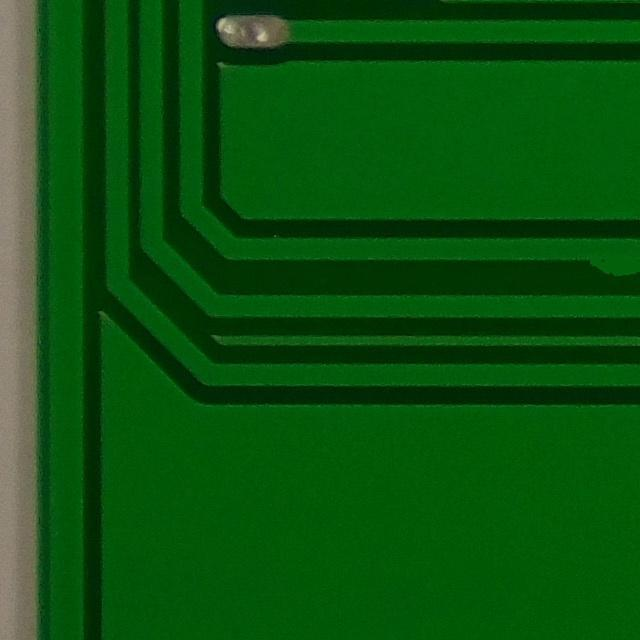spur: (570, 224, 640, 288)
